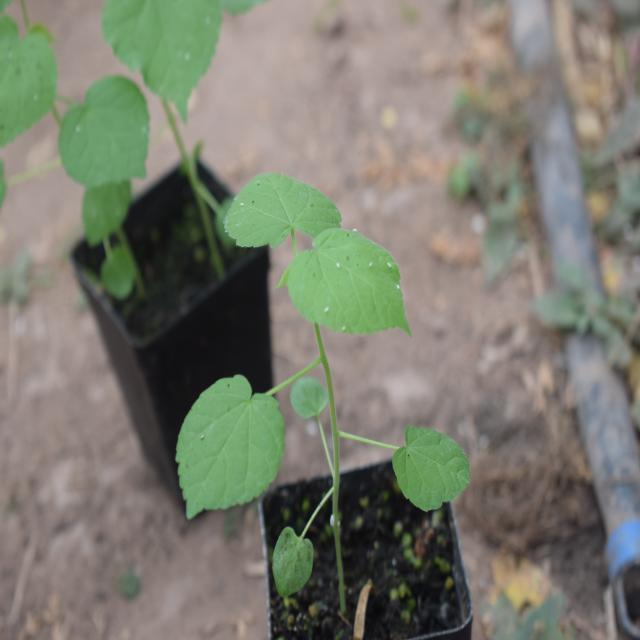abutilon theophrasti: (154, 160, 446, 542)
